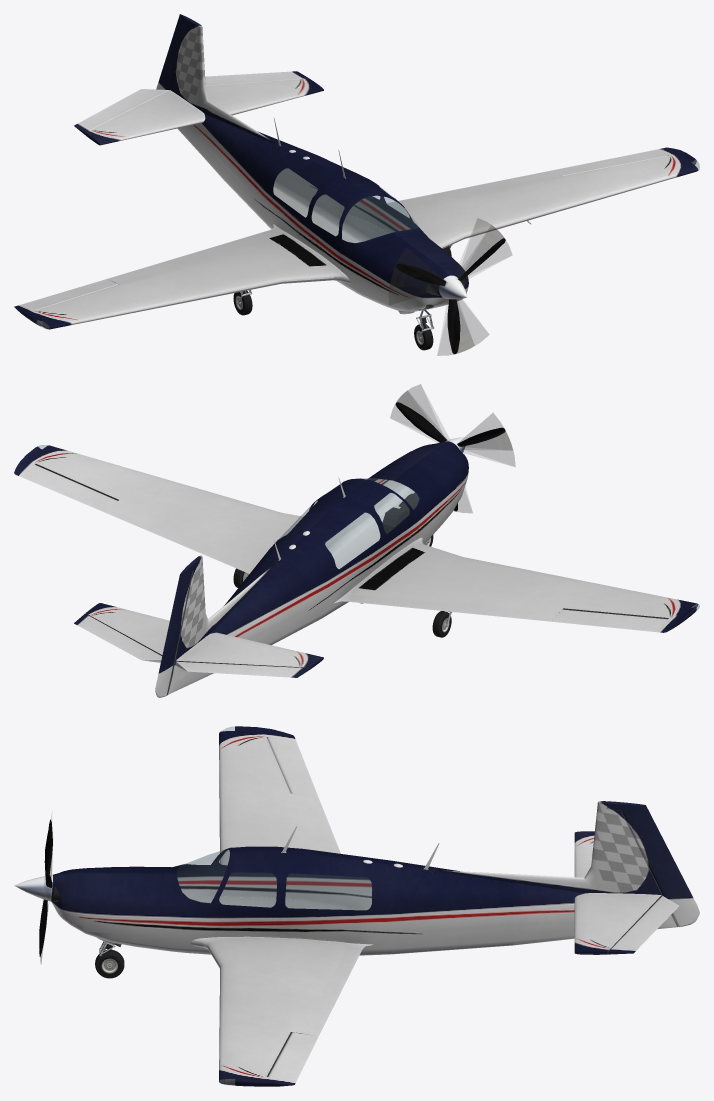
3 views of the same model, one above another, from view 1: azimuth 30°, elevation 25°; view 2: azimuth 150°, elevation 25°; view 3: azimuth 270°, elevation 25° (orthographic). The views are drawn at different scales.
Parts seen in each view (by area): view 1: body, fuselage_rear, wing_right_inner, stab, wing_left_inner, wing_left_outer, wing_right_outer, propeller_disc, fin, propeller_blades, elevator_right, rudder (+6 smaller); view 2: body, fuselage_rear, wing_right_inner, wing_left_outer, wing_left_inner, wing_right_outer, stab, propeller_disc, fin, flap_right, rudder, flap_left (+5 smaller); view 3: body, fuselage_rear, wing_left_inner, wing_right_outer, wing_left_outer, fin, stab, wing_right_inner, rudder, aileron_right, flap_left, elevator_left (+4 smaller).
Boxes of the visible parts, x1,y1,x2,y2 form: body: [282, 150, 468, 314]; fuselage_rear: [177, 107, 402, 244]; wing_right_inner: [161, 230, 347, 298]; stab: [85, 78, 323, 145]; wing_left_inner: [386, 185, 543, 248]; wing_left_outer: [500, 147, 699, 215]; wing_right_outer: [14, 268, 203, 329]; propeller_disc: [389, 218, 512, 355]; fin: [170, 24, 217, 136]; propeller_blades: [396, 238, 505, 354]; elevator_right: [74, 89, 168, 134]; rudder: [156, 14, 198, 90]; body: [289, 441, 468, 588]; fuselage_rear: [166, 518, 403, 695]; wing_right_inner: [356, 515, 541, 607]; wing_left_outer: [14, 445, 202, 524]; wing_left_inner: [161, 490, 302, 563]; wing_right_outer: [500, 572, 699, 632]; stab: [85, 603, 323, 669]; propeller_disc: [390, 384, 515, 512]; fin: [171, 555, 229, 680]; flap_right: [347, 594, 558, 621]; rudder: [155, 558, 199, 697]; flap_left: [107, 505, 254, 573]; body: [51, 826, 336, 954]; fuselage_rear: [336, 843, 677, 967]; wing_left_inner: [194, 905, 336, 1008]; wing_right_outer: [219, 726, 314, 826]; wing_left_outer: [219, 1002, 314, 1086]; fin: [562, 801, 662, 915]; stab: [574, 831, 661, 954]; wing_right_inner: [197, 820, 325, 896]; rudder: [606, 801, 699, 927]; aileron_right: [267, 737, 318, 797]; flap_left: [302, 946, 362, 1036]; elevator_left: [607, 896, 678, 954].
Size of the model in its own units: 10.98 by 2.54 by 8.98.
3 materials, 3 textured.
